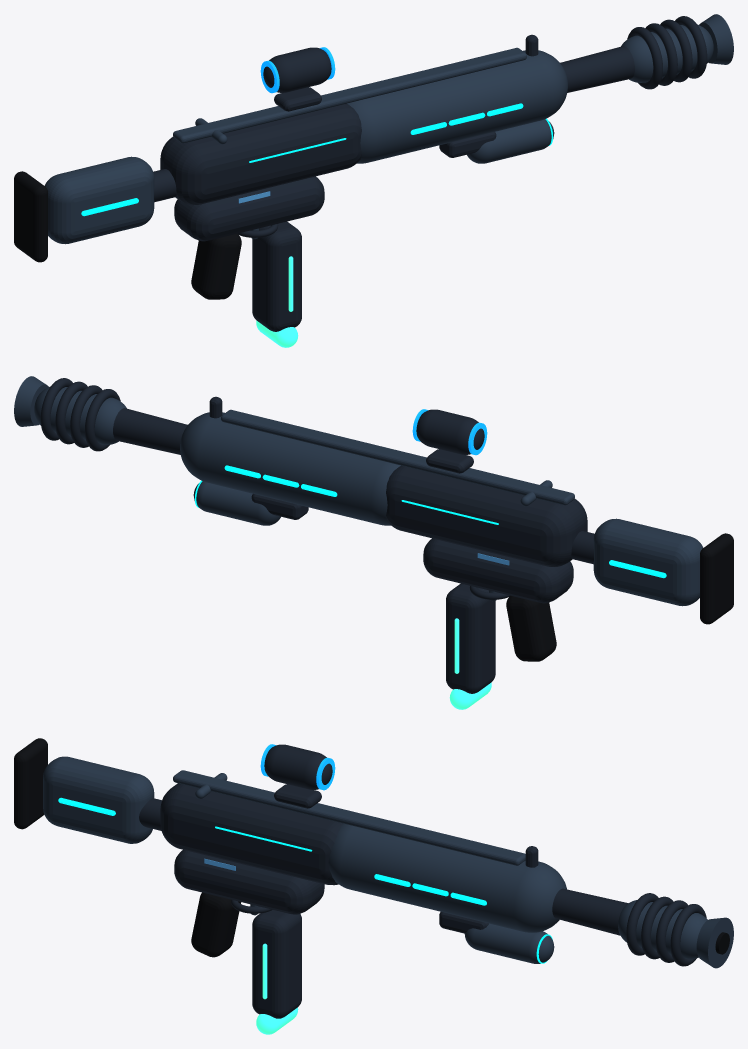
File: hellfire_rifle (2).glb
3 renders of one model, top to bottom at view 1: azimuth 30°, elevation 25°; view 2: azimuth 150°, elevation 25°; view 3: azimuth 330°, elevation 25°, orthographic.
Size of the model in its own units: 4.04 by 1.55 by 0.388.
